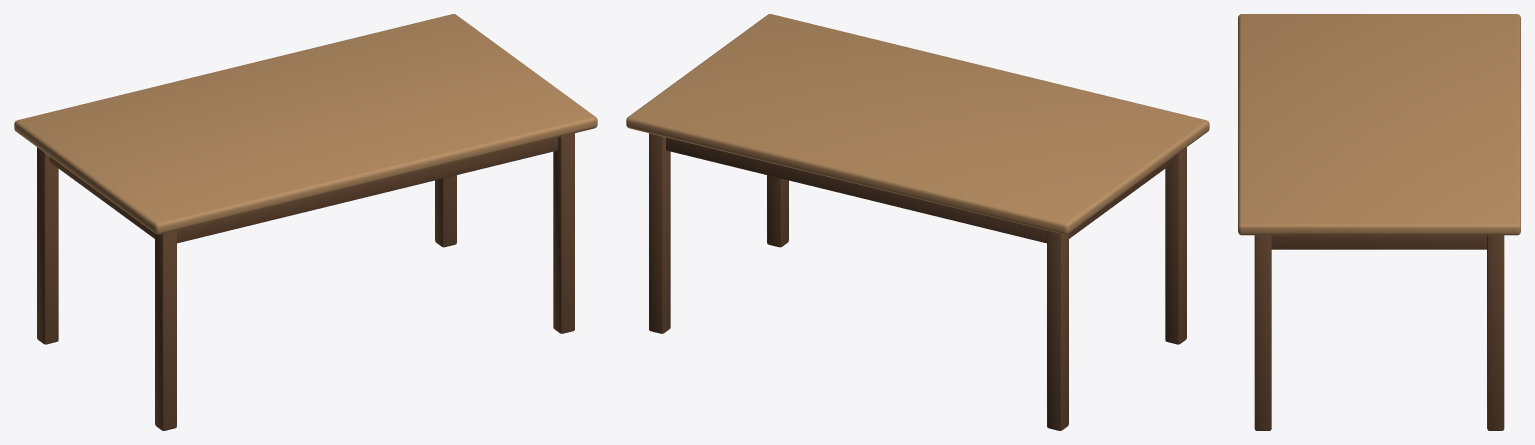
File: table.glb
3 renders of one model, left to right at view 1: azimuth 30°, elevation 25°; view 2: azimuth 150°, elevation 25°; view 3: azimuth 270°, elevation 25°, orthographic.
Parts seen in each view (by area): view 1: box, box.005, box.001, box.003, box.002, box.004, box.007; view 2: box, box.006, box.002, box.004, box.001, box.003, box.007; view 3: box, box.003, box.004, box.008.
Part boxes in pixels (x1,y1,x2,y2): box: [14, 14, 597, 234]; box.005: [177, 137, 557, 243]; box.001: [155, 230, 176, 430]; box.003: [553, 133, 574, 333]; box.002: [37, 147, 58, 344]; box.004: [435, 175, 456, 247]; box.007: [49, 156, 154, 238]; box: [626, 14, 1209, 234]; box.006: [666, 137, 1046, 243]; box.002: [1047, 230, 1068, 430]; box.004: [649, 133, 670, 333]; box.001: [1165, 147, 1186, 344]; box.003: [767, 175, 788, 247]; box.007: [1069, 156, 1174, 238]; box: [1238, 14, 1520, 235]; box.003: [1254, 235, 1271, 430]; box.004: [1487, 235, 1504, 430]; box.008: [1271, 235, 1486, 249].
Bounding box in the file's own units: 160 × 75 × 90.
